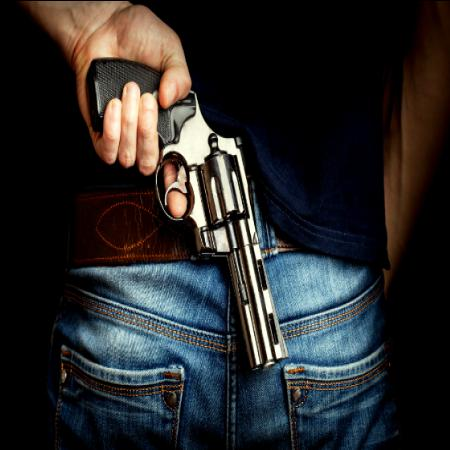Pistol: (84, 49, 290, 369)
